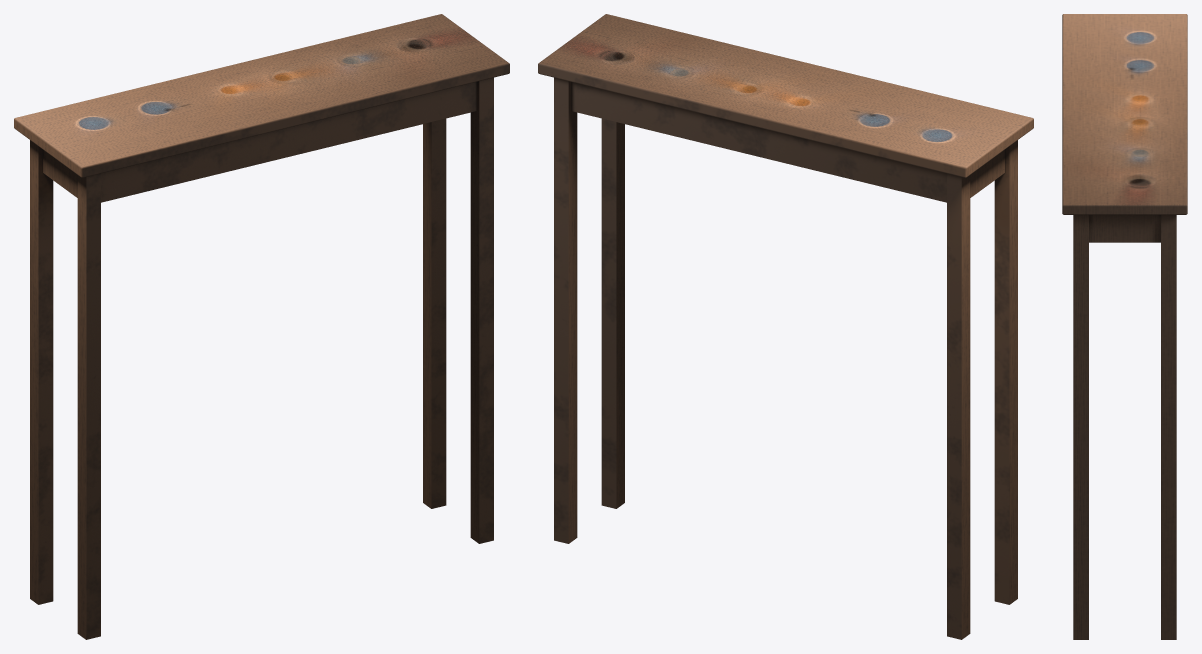
The model's file is 509_hook.glb.
The picture shows the model from 3 angles, left to right: view 1: azimuth 30°, elevation 25°; view 2: azimuth 150°, elevation 25°; view 3: azimuth 270°, elevation 25°; orthographic projection. The views are drawn at different scales.
Parts seen in each view (by area): view 1: Table; view 2: Table; view 3: Table.
Boxes of the visible parts, x1=… form: Table: x1=14, y1=14, x2=509, y2=639; Table: x1=538, y1=14, x2=1033, y2=639; Table: x1=1062, y1=14, x2=1187, y2=639.
Size of what is drawn, in the model's own units: 2.9 by 3.1 by 0.8.
Materials: 1 (1 with a texture image).
